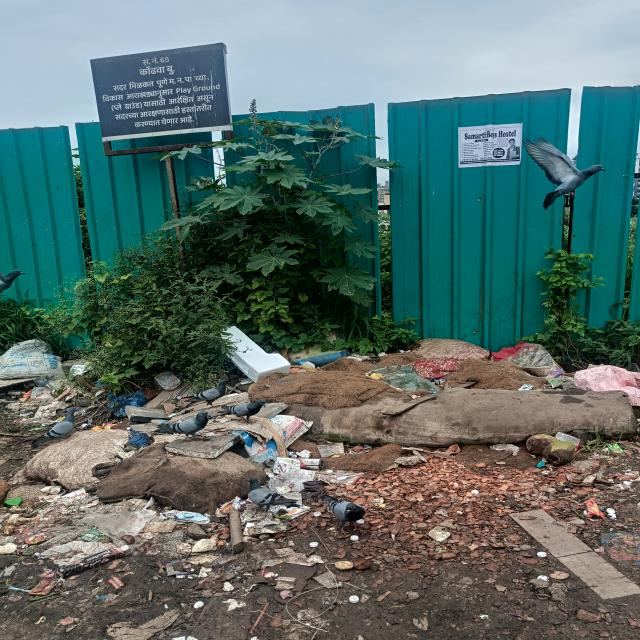garbage: (268, 329, 640, 500), (6, 337, 274, 564)
